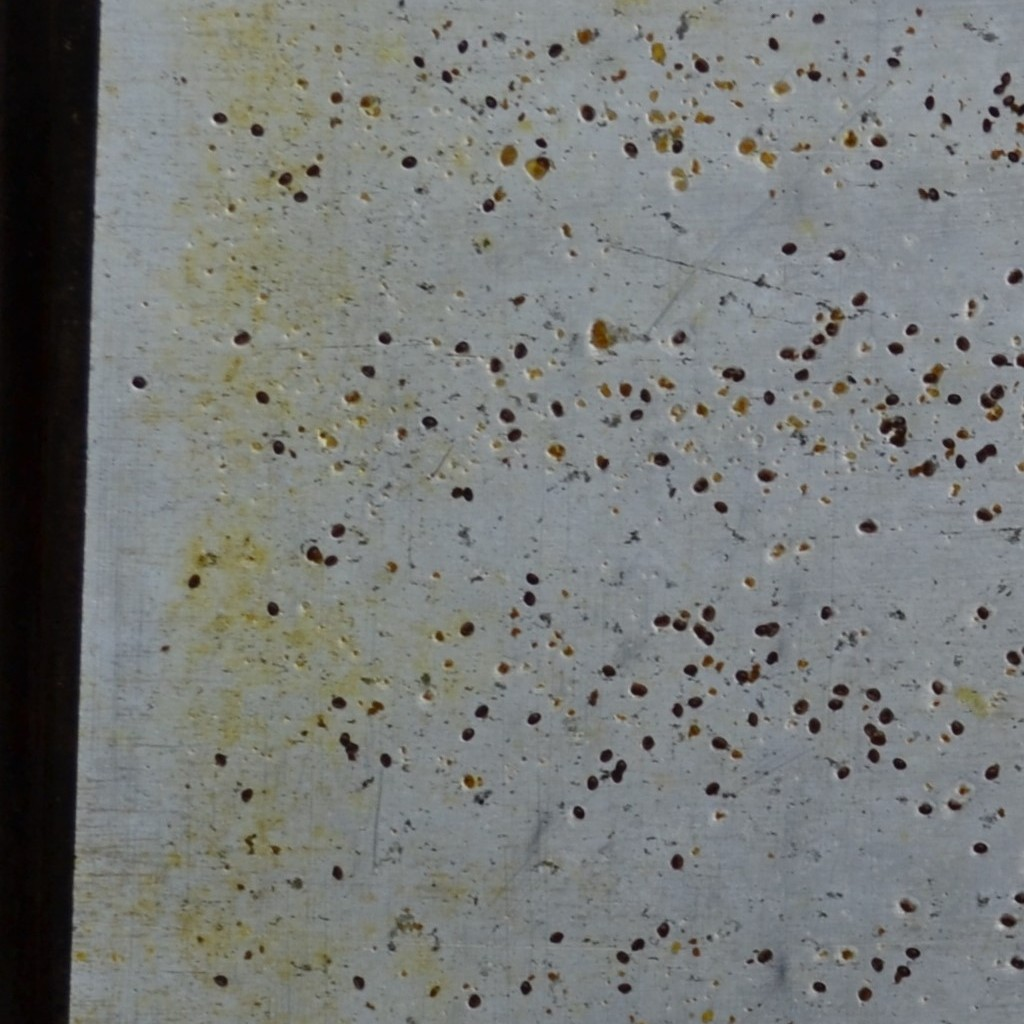varroa: (1002, 645, 1023, 668), (1003, 264, 1023, 287), (855, 518, 878, 537), (579, 100, 597, 124), (953, 333, 973, 354), (981, 761, 1001, 782), (231, 328, 253, 347), (322, 549, 341, 571), (851, 287, 869, 310), (270, 434, 286, 459), (130, 372, 149, 393), (547, 38, 565, 60), (400, 153, 419, 173), (458, 618, 477, 638), (691, 475, 709, 496), (885, 339, 907, 356), (247, 119, 266, 138), (652, 448, 671, 467), (899, 895, 919, 913), (877, 705, 895, 725), (867, 728, 887, 746), (329, 691, 347, 711), (513, 340, 530, 361), (700, 602, 717, 623), (628, 681, 649, 698), (756, 467, 778, 483), (185, 571, 201, 593), (921, 457, 935, 482), (884, 53, 902, 72), (805, 64, 823, 83), (780, 239, 798, 258), (692, 56, 711, 74), (212, 108, 230, 127), (291, 185, 310, 203), (903, 943, 922, 961), (711, 734, 730, 752), (903, 320, 923, 337), (973, 506, 994, 522), (360, 361, 376, 382), (997, 913, 1018, 929), (974, 600, 989, 622), (828, 245, 846, 263), (452, 337, 470, 355), (855, 985, 873, 1003), (532, 134, 550, 152), (757, 946, 775, 964), (990, 349, 1007, 368), (670, 329, 689, 346), (549, 399, 566, 418), (329, 520, 346, 539), (792, 696, 809, 715), (465, 991, 482, 1010), (1005, 145, 1021, 165), (945, 389, 965, 405), (595, 450, 611, 470), (669, 850, 685, 870), (305, 542, 321, 562), (922, 92, 937, 113), (378, 748, 393, 769), (939, 108, 957, 125), (793, 367, 810, 385), (621, 138, 639, 155), (303, 161, 321, 178), (420, 413, 438, 430), (703, 780, 721, 797), (473, 702, 490, 720), (884, 389, 900, 408), (479, 196, 495, 215), (865, 747, 881, 766), (327, 89, 346, 105), (827, 696, 843, 715), (459, 722, 475, 741), (950, 717, 965, 737), (1009, 951, 1023, 972), (585, 771, 599, 792), (809, 9, 826, 26), (253, 388, 270, 405), (890, 755, 907, 772), (498, 407, 515, 424), (525, 709, 542, 726), (548, 928, 565, 945), (930, 678, 946, 696), (946, 794, 964, 810), (916, 801, 934, 817), (836, 763, 852, 781), (669, 701, 685, 719), (615, 947, 631, 965), (571, 803, 587, 821), (329, 863, 345, 881), (412, 52, 427, 71), (487, 354, 502, 373), (719, 364, 738, 379), (971, 840, 990, 855), (212, 972, 231, 987), (807, 716, 822, 735), (610, 766, 625, 785), (522, 589, 537, 608), (484, 91, 498, 111), (278, 167, 292, 187), (766, 618, 780, 638), (891, 417, 908, 433), (628, 407, 644, 424), (811, 979, 828, 995), (864, 685, 881, 701), (669, 138, 685, 155), (926, 185, 941, 203), (832, 681, 850, 696), (765, 648, 780, 666), (524, 568, 539, 586), (265, 598, 279, 617), (441, 65, 454, 85), (671, 617, 687, 633), (682, 662, 698, 678), (731, 367, 746, 384), (868, 956, 885, 971), (239, 787, 254, 804), (653, 613, 670, 628), (735, 666, 750, 683), (766, 35, 780, 53), (377, 328, 391, 346), (213, 750, 227, 768), (615, 981, 633, 995), (337, 729, 351, 747), (987, 103, 1002, 119), (940, 435, 956, 450), (763, 387, 775, 407), (639, 387, 654, 403), (713, 499, 729, 514), (507, 427, 522, 443), (690, 621, 705, 637), (699, 629, 714, 645), (746, 708, 758, 728), (631, 936, 646, 952), (518, 979, 533, 995), (999, 68, 1013, 85), (868, 156, 885, 170), (989, 384, 1006, 398), (824, 320, 838, 337), (801, 344, 815, 361), (753, 621, 767, 638), (641, 734, 655, 751), (601, 662, 615, 679), (921, 370, 940, 382), (657, 920, 669, 939), (861, 721, 876, 736), (687, 695, 702, 710), (599, 747, 613, 763), (992, 80, 1009, 93), (352, 972, 365, 989), (955, 451, 966, 471), (985, 441, 997, 459), (975, 445, 987, 463), (819, 604, 831, 622), (980, 117, 994, 132), (810, 332, 825, 346), (462, 485, 474, 502), (346, 741, 359, 756), (450, 484, 462, 500), (897, 963, 911, 976), (615, 757, 628, 771), (1004, 91, 1015, 107), (457, 37, 468, 53), (1012, 890, 1023, 906), (1015, 350, 1023, 370)
